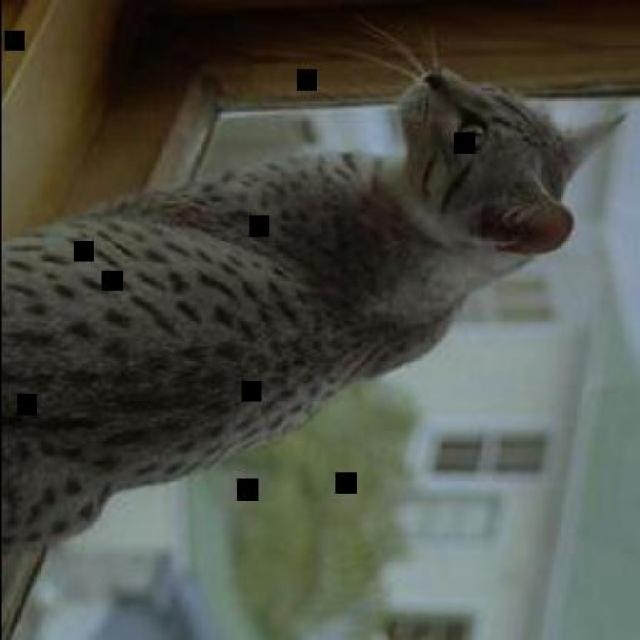unauthorized: (0, 14, 628, 549)
